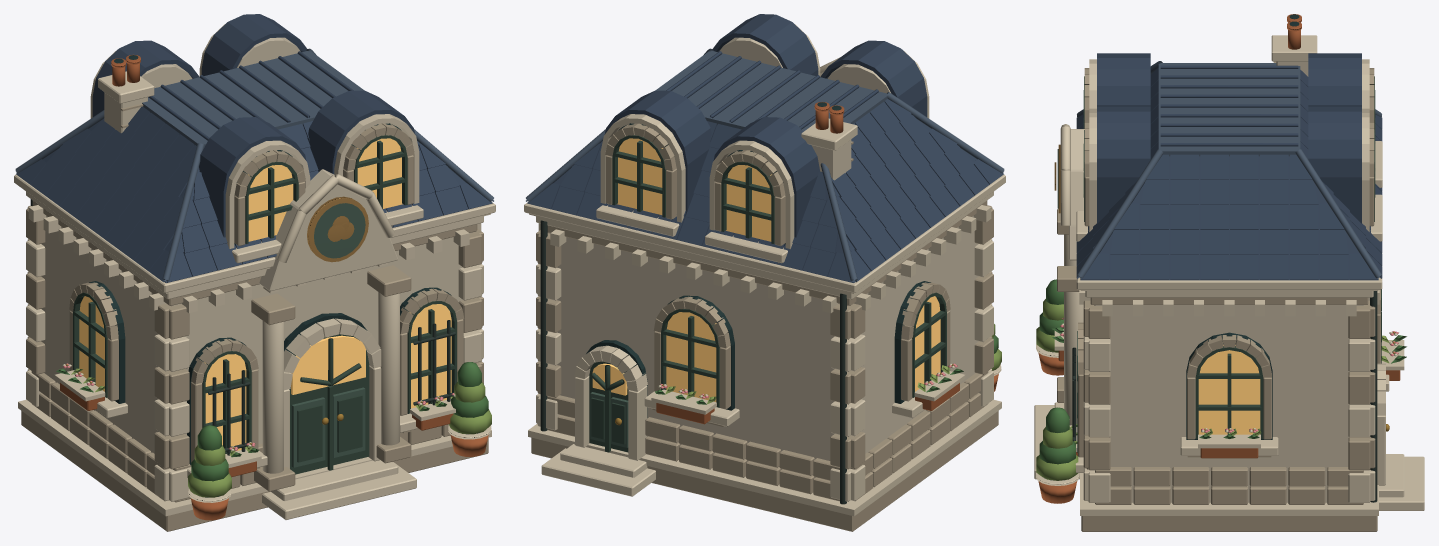
3 renders of one model, left to right at view 1: azimuth 30°, elevation 25°; view 2: azimuth 150°, elevation 25°; view 3: azimuth 270°, elevation 25°, orthographic.
Parts seen in each view (by area): view 1: classic_vault_bank_geometry; view 2: classic_vault_bank_geometry; view 3: classic_vault_bank_geometry.
Part boxes in pixels (x1=…): classic_vault_bank_geometry: x1=14, y1=14, x2=495, y2=531; classic_vault_bank_geometry: x1=524, y1=14, x2=1005, y2=531; classic_vault_bank_geometry: x1=1034, y1=14, x2=1424, y2=531.
Bounding box in the file's own units: 1.04 × 1.01 × 0.9278.
